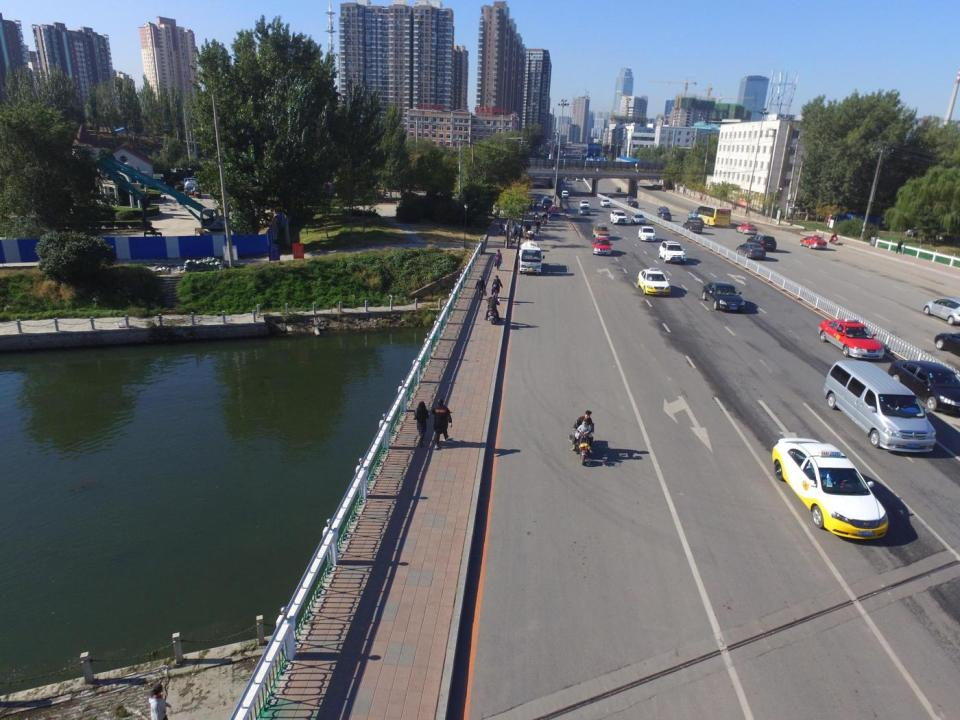bus: (697, 204, 733, 228)
car: (763, 434, 897, 543), (892, 355, 960, 416), (817, 312, 884, 360), (702, 281, 746, 312), (922, 297, 960, 326), (636, 267, 672, 296), (658, 240, 687, 264), (746, 233, 780, 252), (735, 241, 766, 260), (799, 233, 829, 252), (592, 236, 613, 255), (735, 221, 758, 236), (637, 226, 658, 242), (682, 219, 702, 234), (592, 222, 610, 238), (609, 210, 629, 224), (686, 216, 706, 228), (631, 213, 646, 226), (657, 210, 673, 221), (686, 209, 701, 219), (548, 205, 560, 217), (577, 205, 591, 215), (627, 200, 641, 210), (656, 205, 670, 215), (578, 198, 591, 208), (539, 196, 551, 206), (542, 200, 554, 209), (600, 198, 612, 207), (560, 190, 570, 199), (624, 195, 635, 202), (606, 192, 614, 200), (652, 184, 660, 190), (614, 187, 622, 192), (575, 176, 581, 182), (564, 174, 569, 180), (572, 176, 576, 180)
truck: (518, 240, 549, 276), (182, 176, 204, 198)
van: (823, 359, 938, 455)
